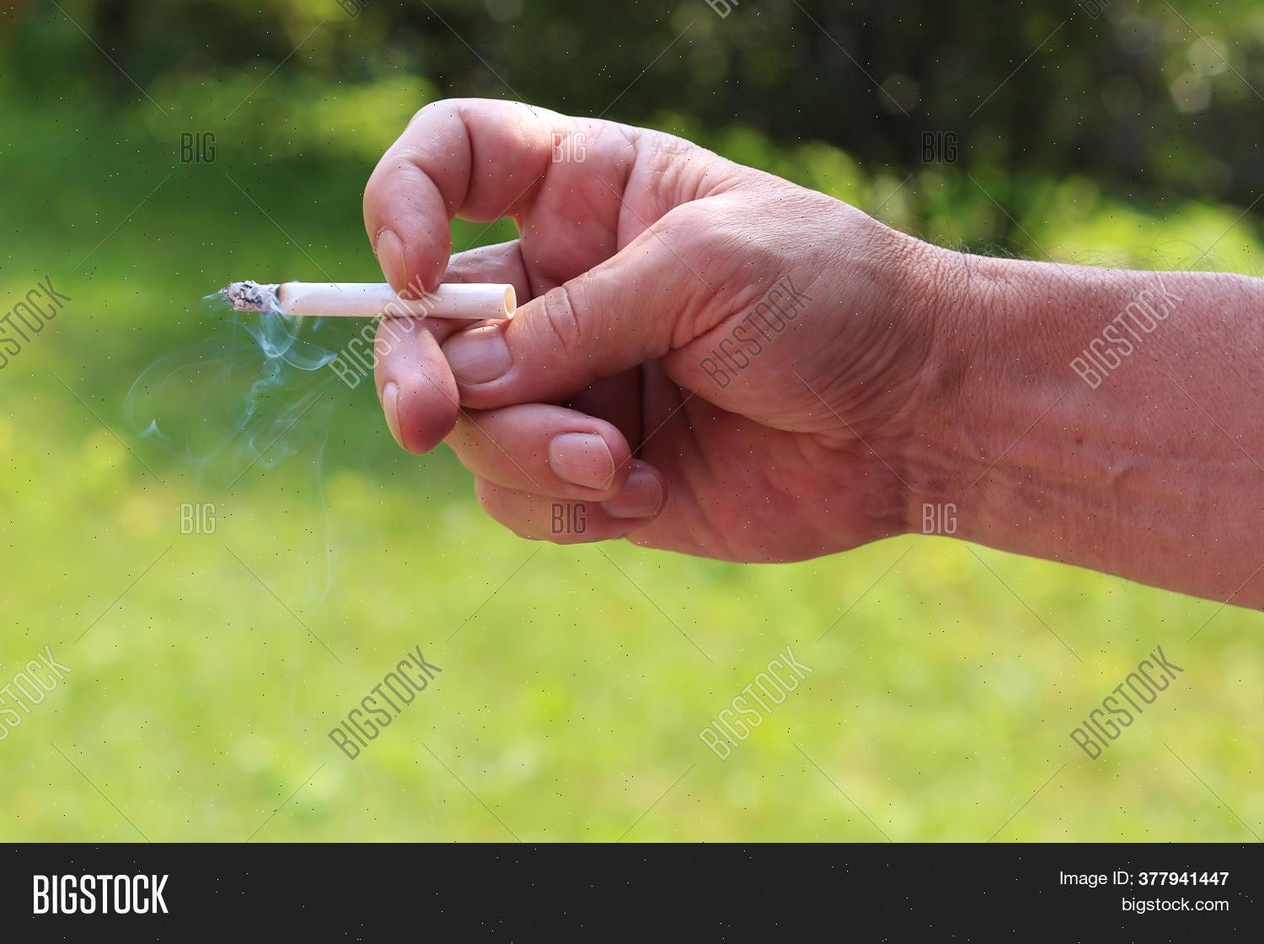cigarette: (219, 281, 516, 319)
